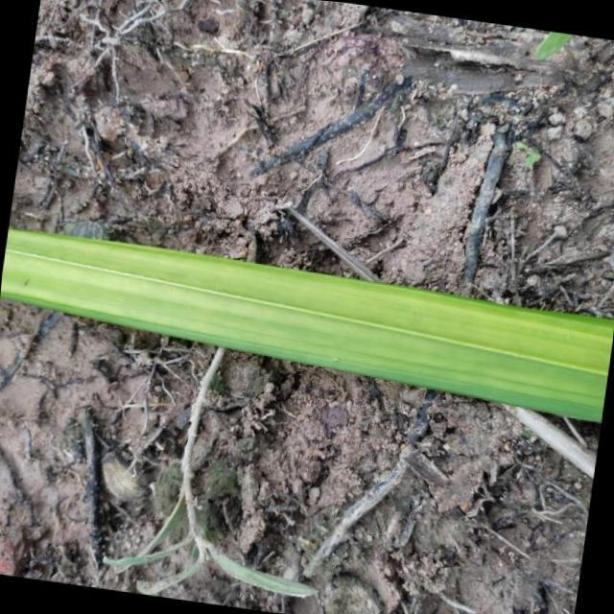nitrogen: (3, 230, 614, 422)
